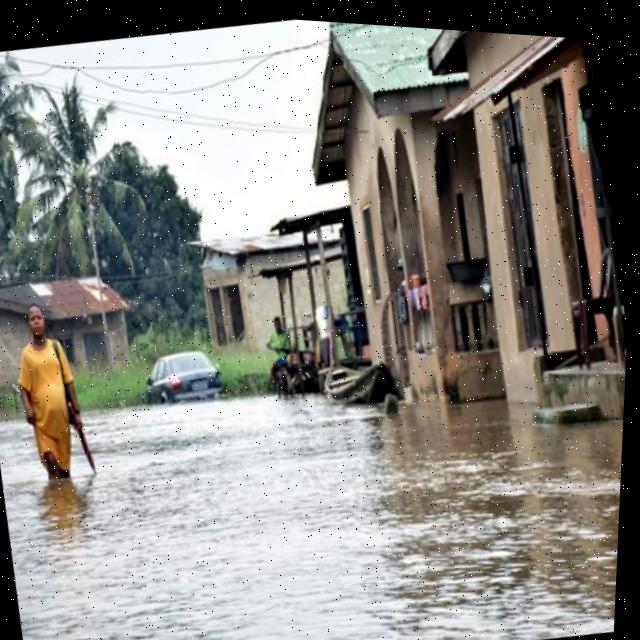civilian: (0, 285, 119, 508), (252, 307, 308, 403)
